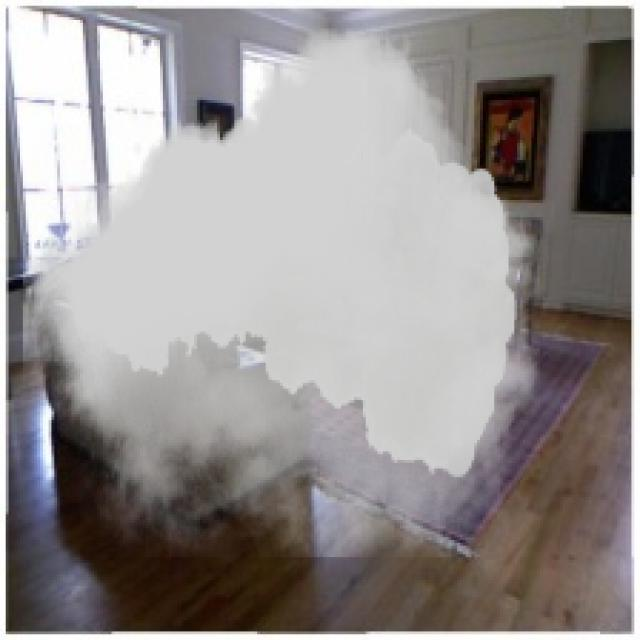smoke: (23, 29, 540, 557)
